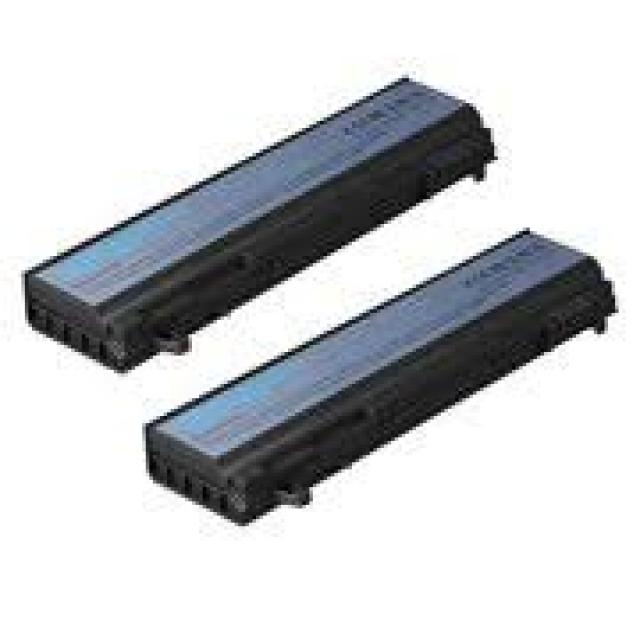non-organic waste: (144, 220, 619, 531), (21, 73, 498, 376)
